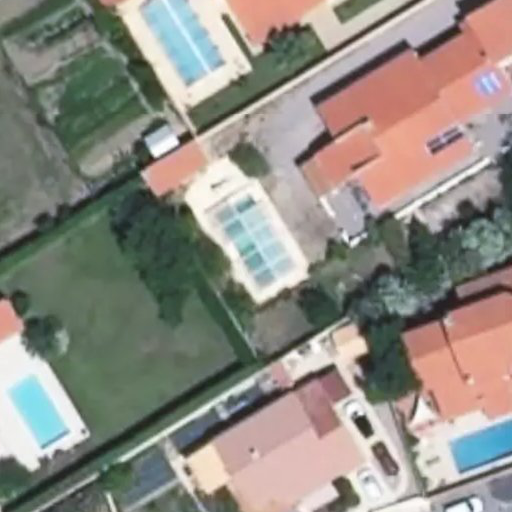pool: (209, 213, 301, 270)
